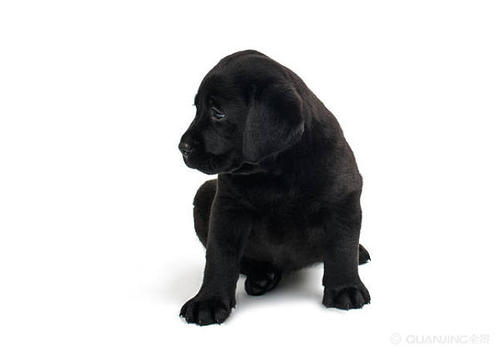dog: (161, 34, 354, 201)
